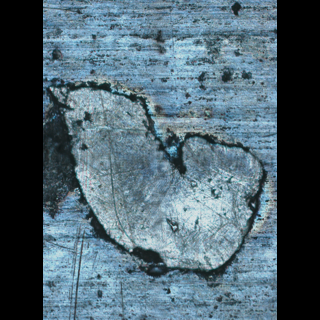d: (47, 77, 267, 279)
